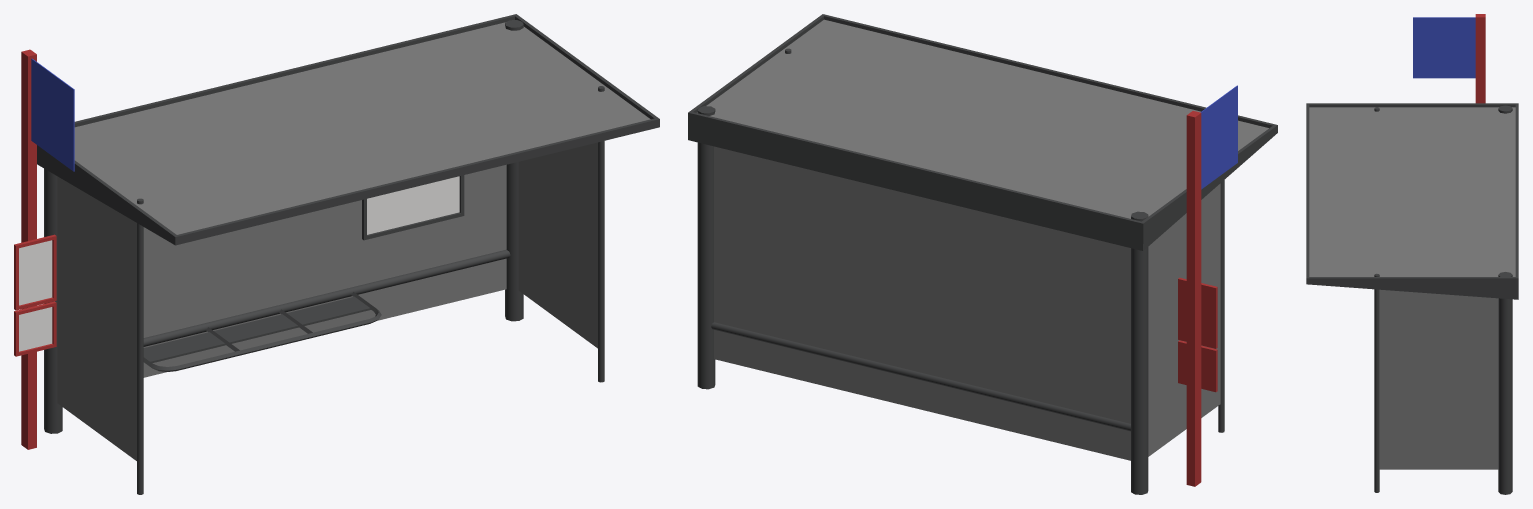
The model's file is SM_busstop_full.fbx.
3 renders of one model, left to right at view 1: azimuth 30°, elevation 25°; view 2: azimuth 150°, elevation 25°; view 3: azimuth 270°, elevation 25°, orthographic. The views are drawn at different scales.
Parts seen in each view (by area): view 1: Line069; view 2: Line069; view 3: Line069.
Boxes of the visible parts, x1,y1,x2,y2 form: Line069: (14, 14, 659, 494); Line069: (688, 14, 1277, 494); Line069: (1306, 14, 1518, 494).
Size of the model in its own units: 219 by 102 by 157.
